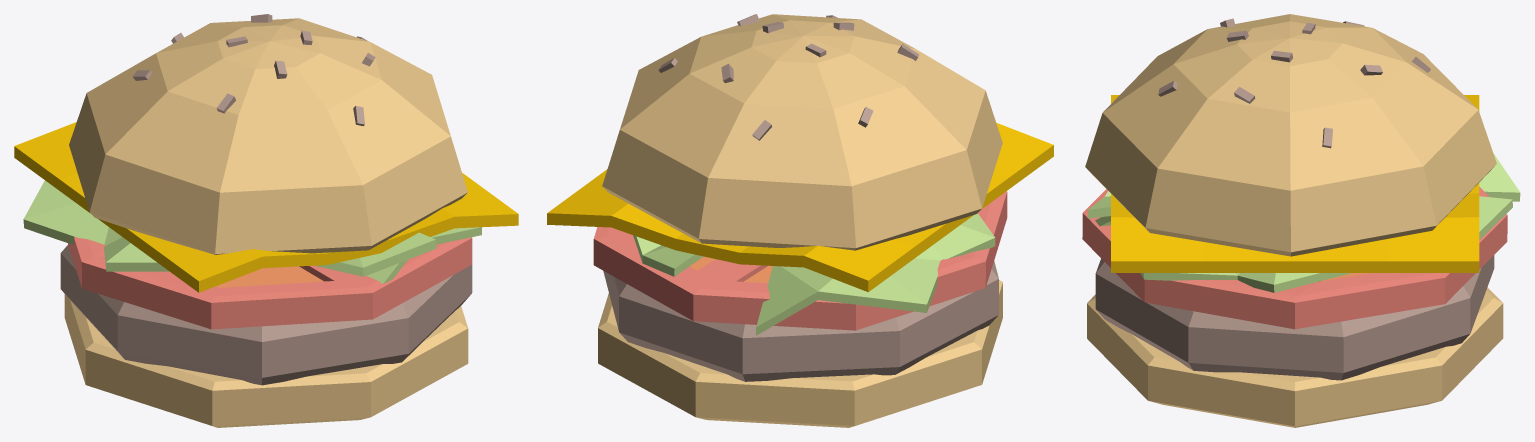
File: Hamburger_01.glb
3 renders of one model, left to right at view 1: azimuth 30°, elevation 25°; view 2: azimuth 150°, elevation 25°; view 3: azimuth 270°, elevation 25°, orthographic.
Visible parts, largest first — view 1: node-0; view 2: node-0; view 3: node-0.
Part boxes in pixels (x1,y1,x2,y2): node-0: (14,14,518,427); node-0: (547,14,1053,427); node-0: (1082,14,1520,427).
Bounding box in the file's own units: 12.36 × 10.03 × 12.73.
